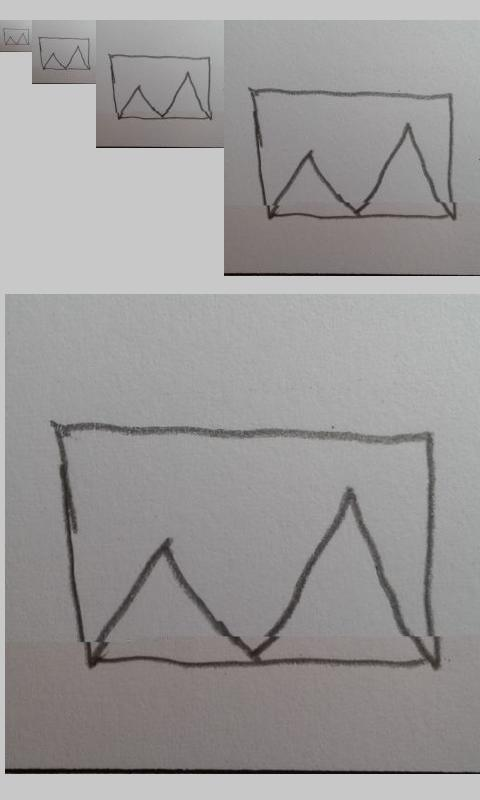image_view: (53, 416, 445, 669), (248, 88, 458, 221), (109, 53, 213, 122), (38, 36, 90, 71), (3, 28, 30, 46)
